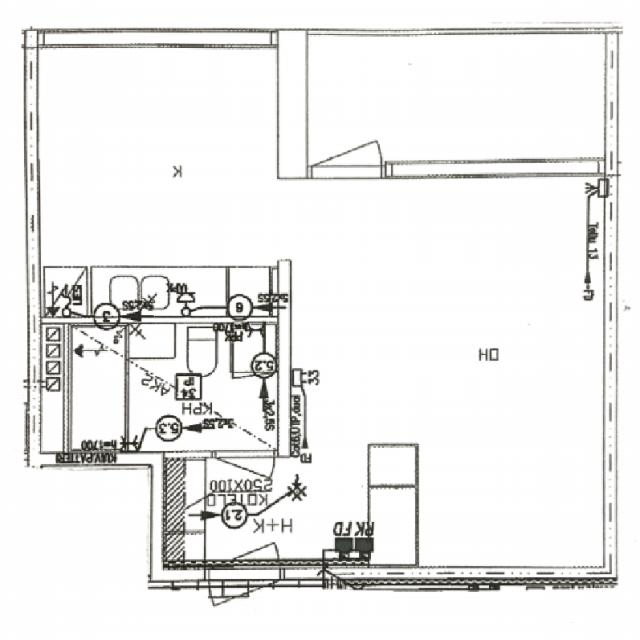door: (209, 494, 279, 586), (311, 93, 381, 178), (213, 451, 273, 519)
